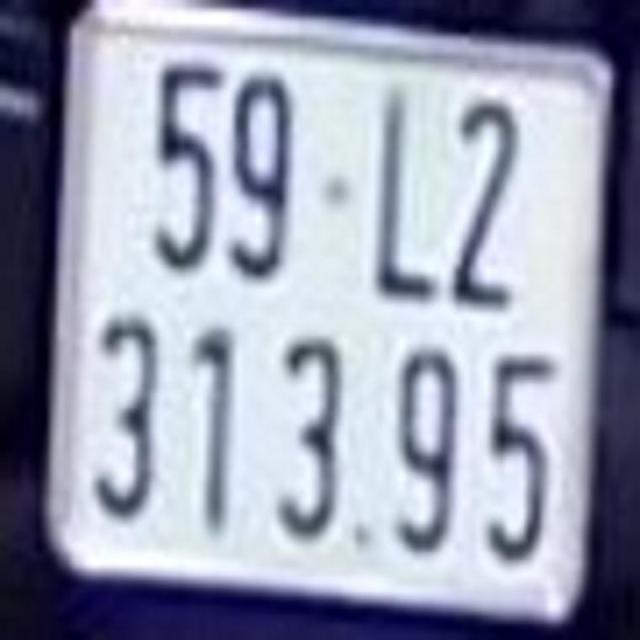1: (180, 314, 238, 528)
2: (457, 85, 515, 312)
3: (280, 332, 348, 540), (96, 315, 161, 512)
5: (487, 343, 556, 562), (158, 56, 219, 273)
9: (393, 338, 458, 549), (236, 70, 294, 286)
L: (377, 88, 442, 299)
